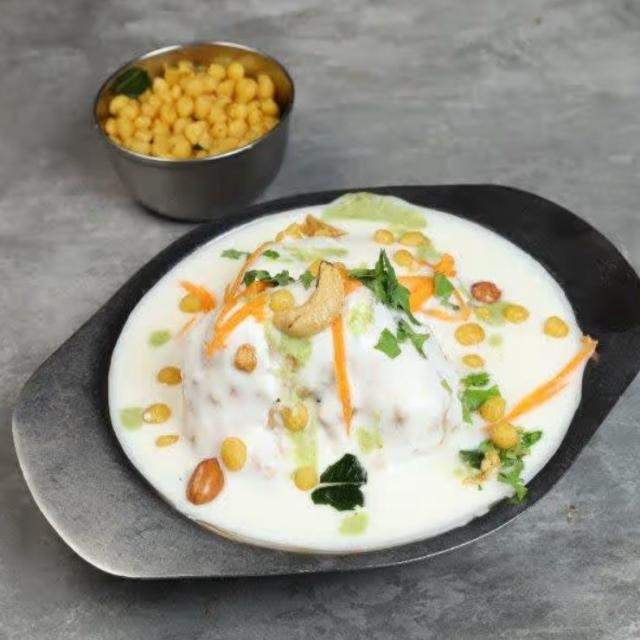CURD: (109, 201, 586, 548)
